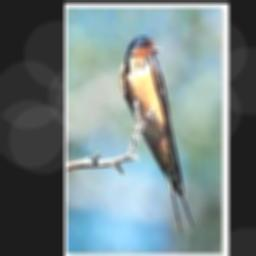Swallow: (119, 34, 194, 232)
